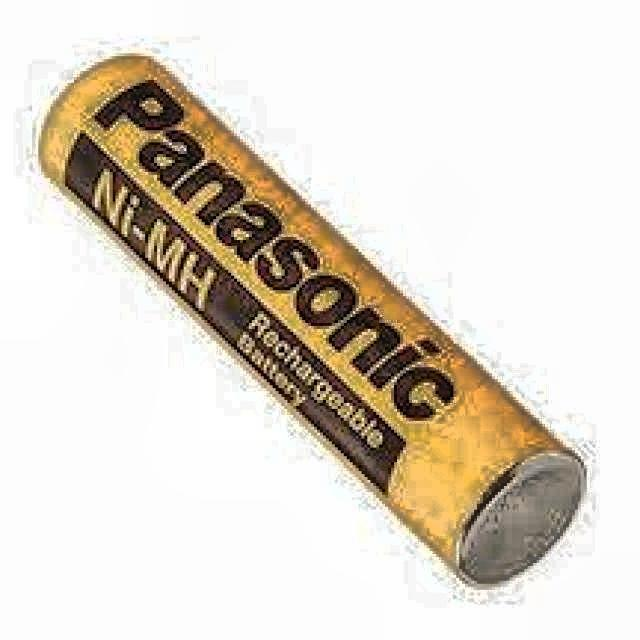battery: (39, 53, 583, 587)
